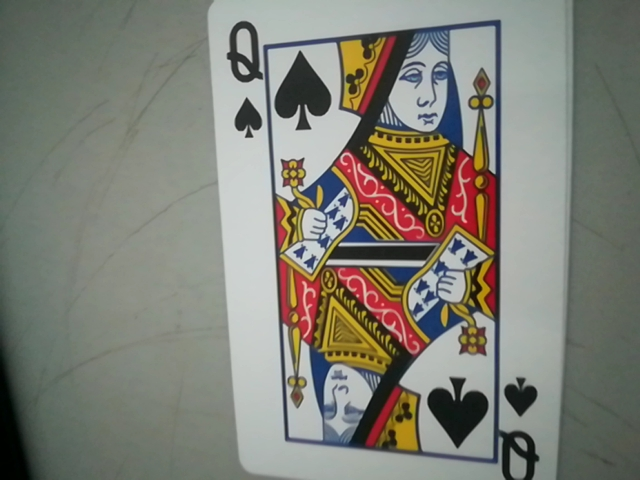ht q: (212, 12, 282, 144)
